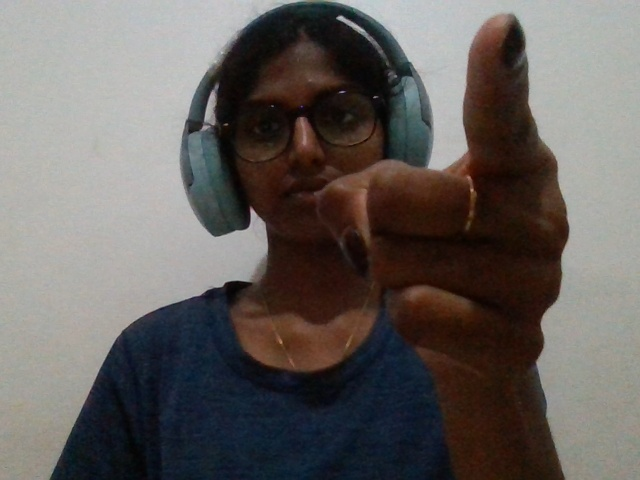You: (298, 5, 585, 426)
